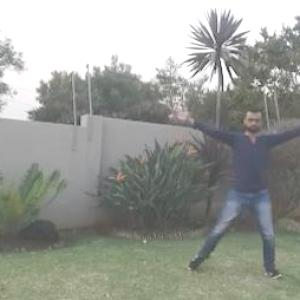takeoff: (165, 97, 299, 280)
